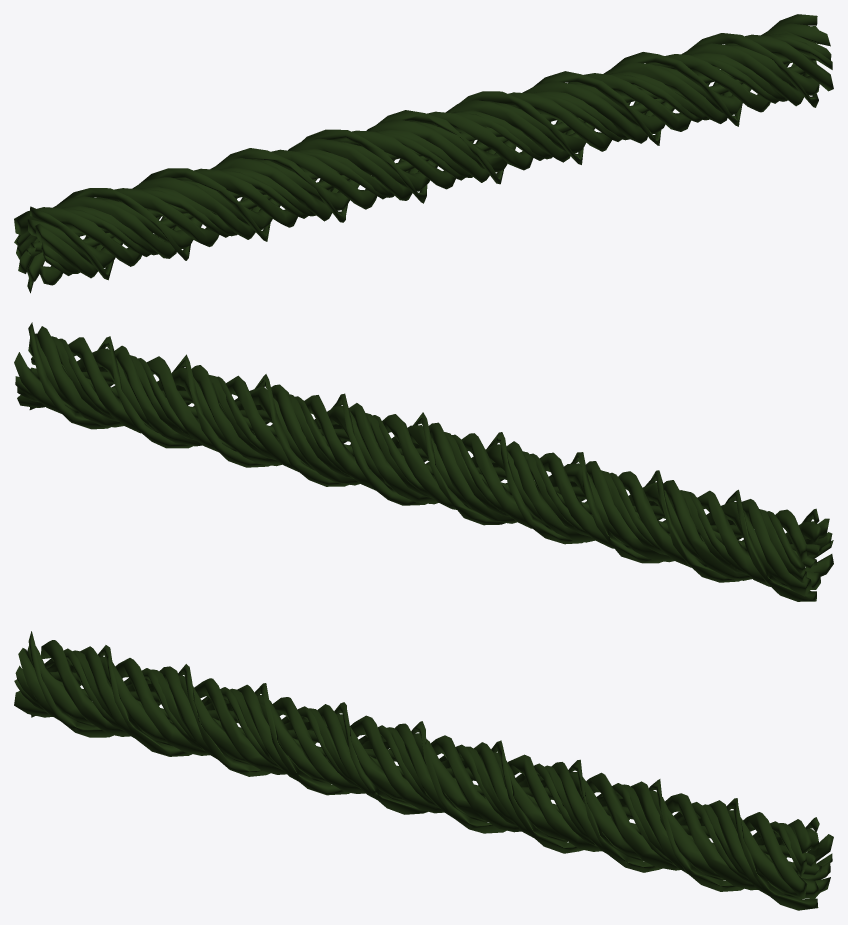
File: ENV_Vine-floor.fbx
The picture shows the model from 3 angles, top to bottom: view 1: azimuth 30°, elevation 25°; view 2: azimuth 150°, elevation 25°; view 3: azimuth 330°, elevation 25°; orthographic projection.
Visible parts, largest first — view 1: Cylinder.032; view 2: Cylinder.032; view 3: Cylinder.032.
Part boxes in pixels (x1=…): Cylinder.032: x1=14, y1=14, x2=833, y2=293; Cylinder.032: x1=14, y1=322, x2=833, y2=601; Cylinder.032: x1=14, y1=631, x2=833, y2=910.
Bounding box in the file's own units: 101 × 955 × 101.
